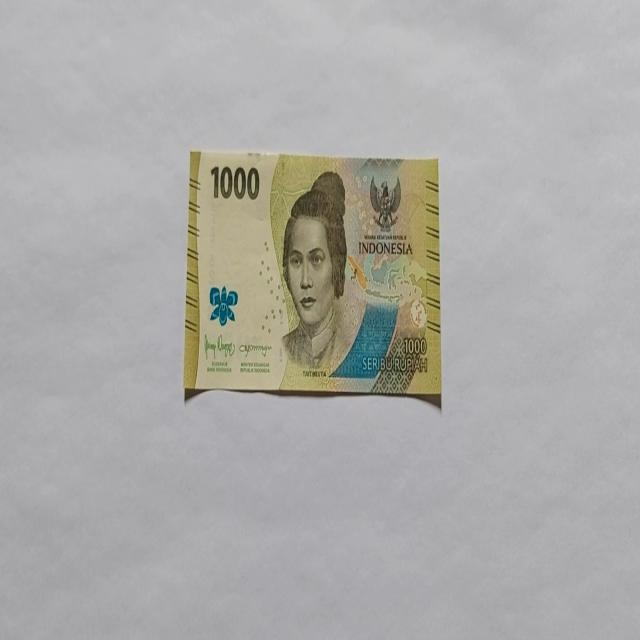seribu rupiah kertas: (183, 148, 441, 404)
